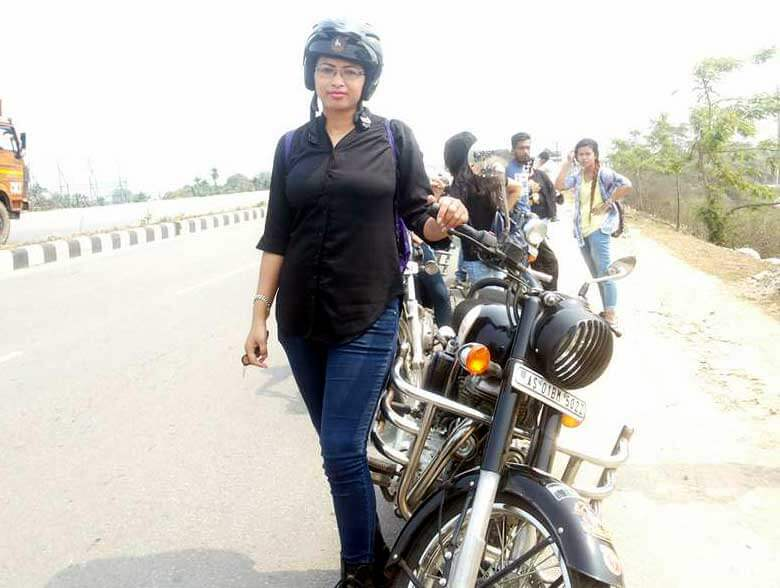with_helmet: (303, 17, 379, 99)
